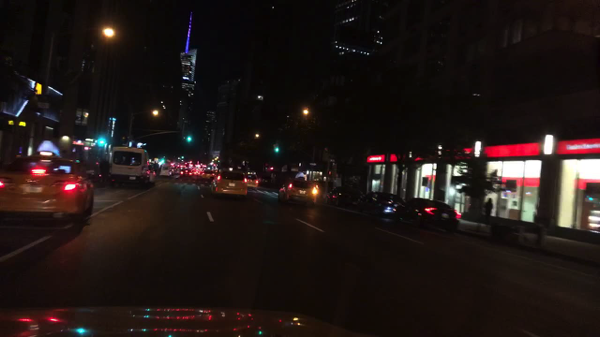car: (0, 140, 94, 223), (406, 197, 459, 233), (107, 147, 151, 189), (356, 192, 411, 224), (276, 172, 319, 207), (208, 169, 247, 198), (325, 187, 364, 209), (201, 166, 214, 182), (246, 174, 258, 189), (179, 167, 193, 179), (160, 164, 171, 179), (150, 164, 155, 184), (171, 166, 179, 176), (192, 169, 199, 178)
person: (99, 155, 109, 187), (483, 198, 494, 227)
traffic light: (99, 134, 105, 148), (274, 146, 279, 154), (188, 132, 191, 143)
traffic sign: (309, 162, 317, 166)
